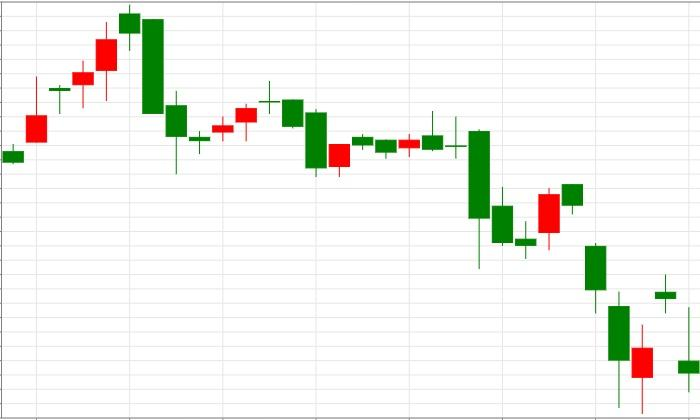evening_star_fall: (165, 80, 304, 173)
three_black_crows_fall: (515, 184, 630, 408)
